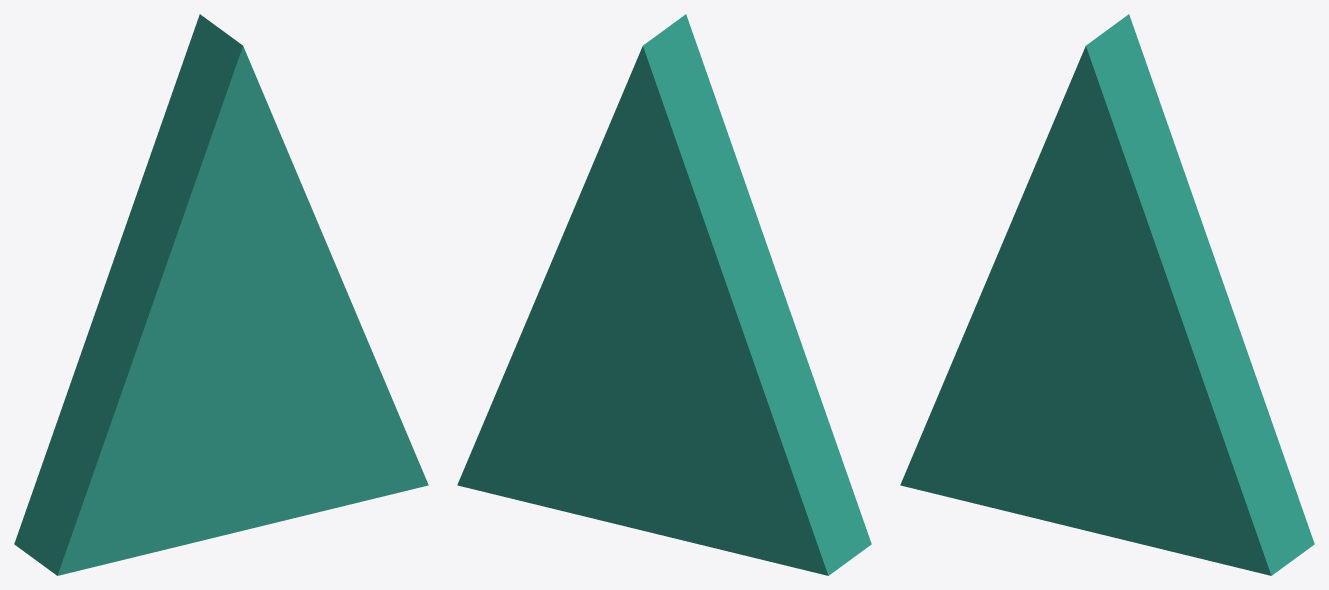
The model's file is new arrow 3.fbx.
3 views of the same model, side by side, from view 1: azimuth 30°, elevation 25°; view 2: azimuth 150°, elevation 25°; view 3: azimuth 330°, elevation 25° (orthographic).
Visible parts, largest first — view 1: Cube; view 2: Cube; view 3: Cube.
Part boxes in pixels (left/top/right/bottom): Cube: left=14, top=14, right=428, bottom=575; Cube: left=457, top=14, right=871, bottom=575; Cube: left=900, top=14, right=1314, bottom=575.
Bounding box in the file's own units: 61.08 × 76.23 × 12.33.
